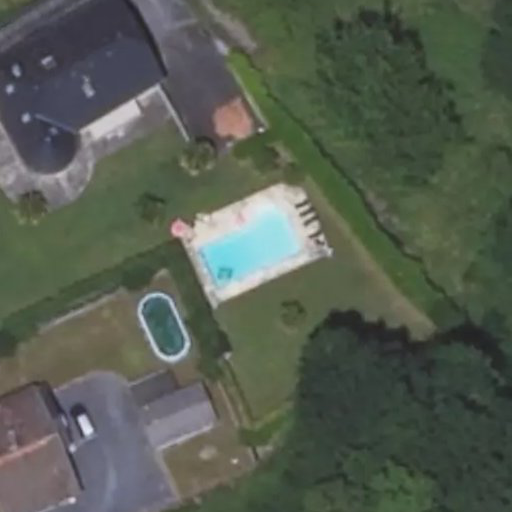pool: (203, 239, 308, 244)
